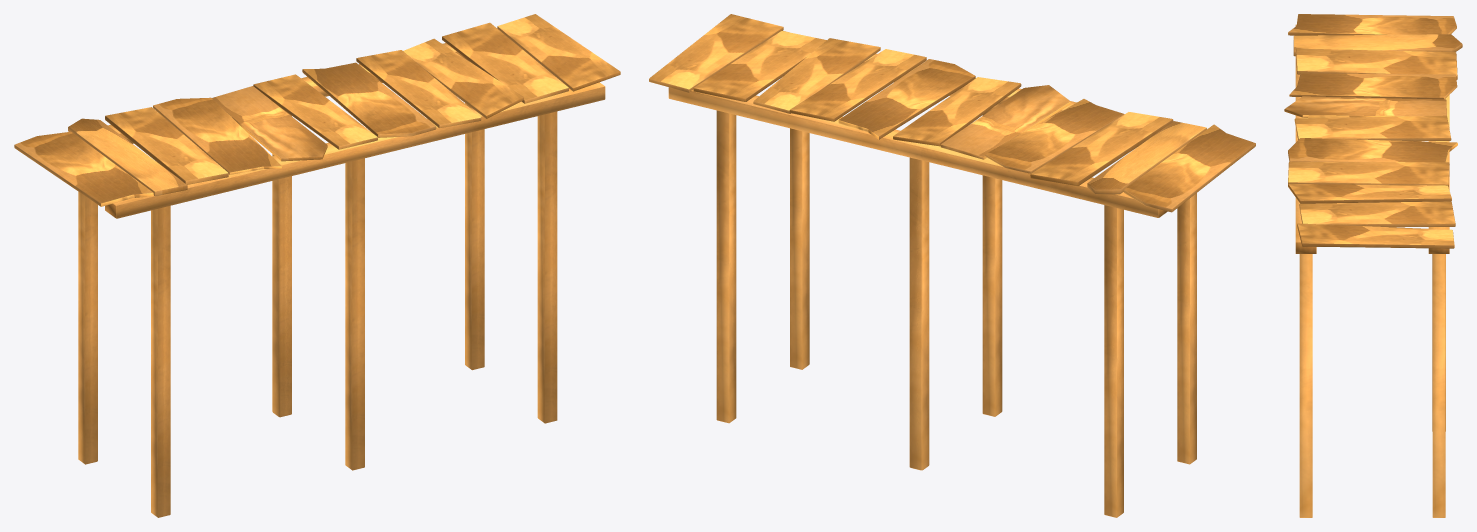
The model's file is SM_Dock_Straight.fbx.
The picture shows the model from 3 angles, left to right: view 1: azimuth 30°, elevation 25°; view 2: azimuth 150°, elevation 25°; view 3: azimuth 270°, elevation 25°; orthographic projection. The views are drawn at different scales.
Visible parts, largest first — view 1: SM_Dock_Straight_LOD0; view 2: SM_Dock_Straight_LOD0; view 3: SM_Dock_Straight_LOD0.
Part boxes in pixels (bbox=[...]): SM_Dock_Straight_LOD0: bbox=[14, 14, 620, 517]; SM_Dock_Straight_LOD0: bbox=[649, 14, 1255, 517]; SM_Dock_Straight_LOD0: bbox=[1284, 14, 1462, 517].
Size of the model in its own units: 758 by 245 by 461.
